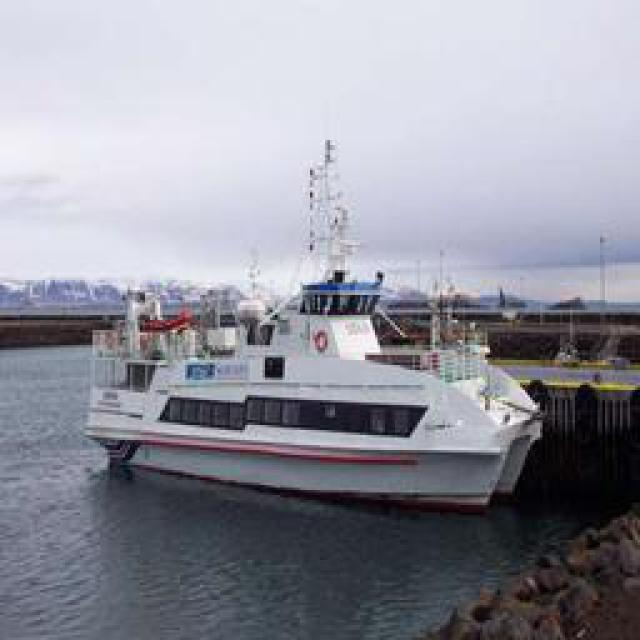Ship: (89, 284, 554, 519)
